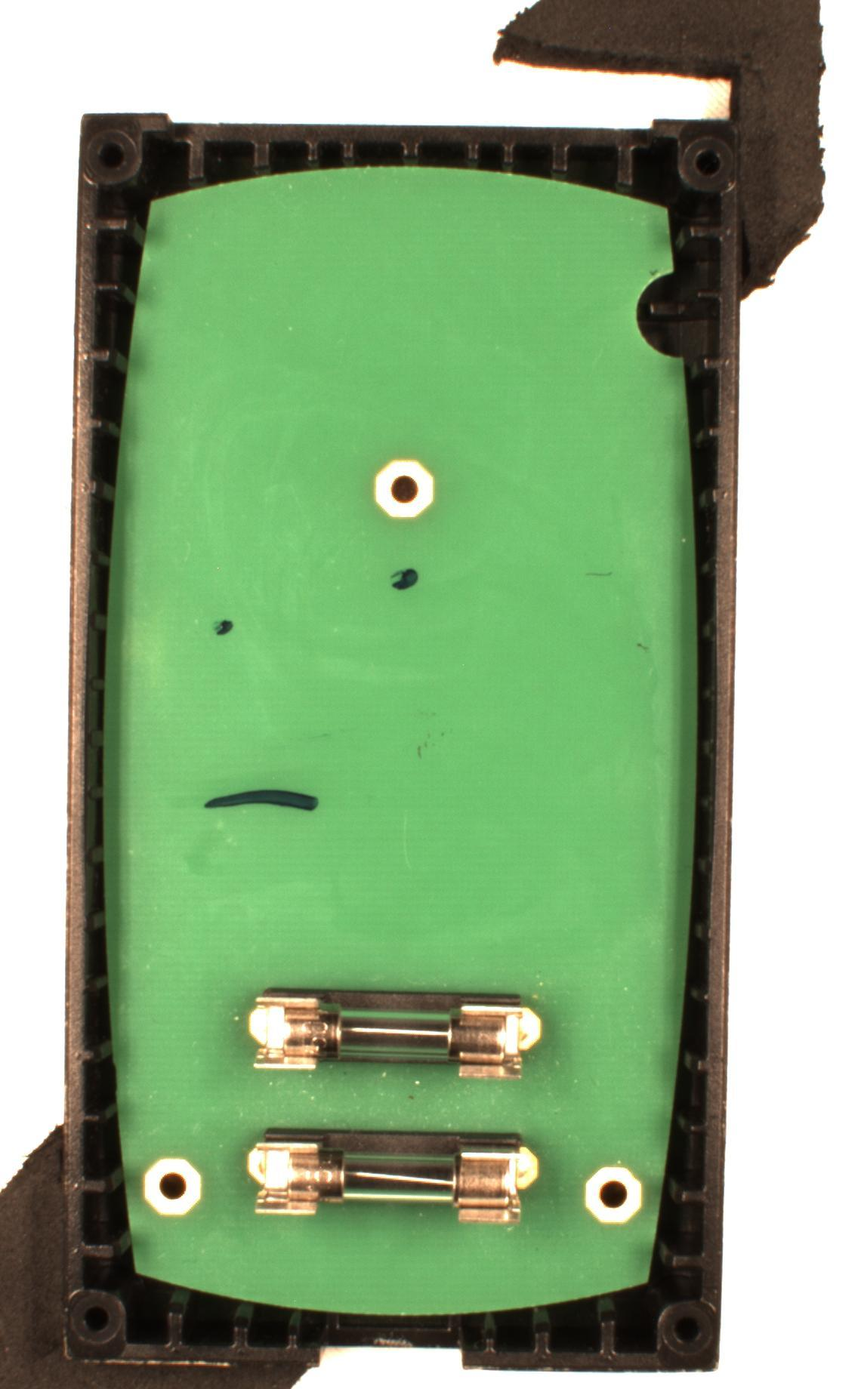Linijsko Ostecene: (202, 784, 326, 816)
Tockasto Ostecenje: (388, 565, 425, 593), (211, 614, 236, 642)
